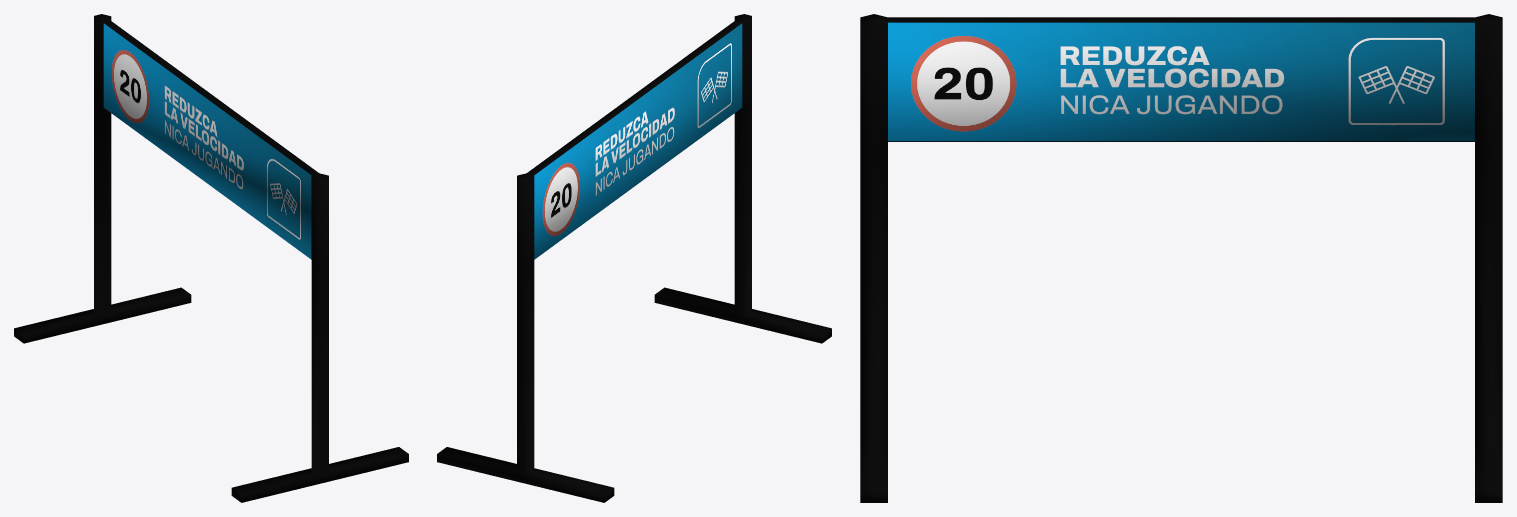
File: Valla.glb
The picture shows the model from 3 angles, left to right: view 1: azimuth 30°, elevation 25°; view 2: azimuth 150°, elevation 25°; view 3: azimuth 270°, elevation 25°; orthographic projection. The views are drawn at different scales.
Visible parts, largest first — view 1: Plane; view 2: Plane; view 3: Plane.
Part boxes in pixels (x1,y1,x2,y2): Plane: (14,14,408,502); Plane: (437,14,831,502); Plane: (860,14,1502,502).
Size of the model in its own units: 0.2117 by 0.3642 by 0.4984.
1 material, 1 textured.
